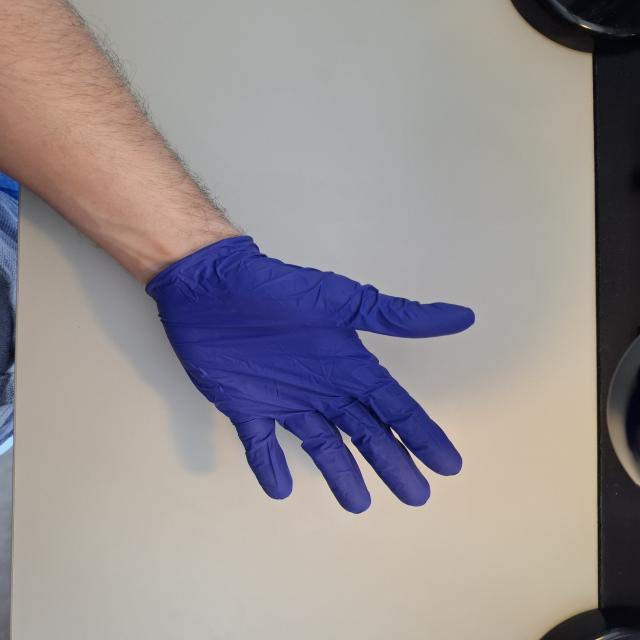glove_on: (143, 236, 480, 517)
